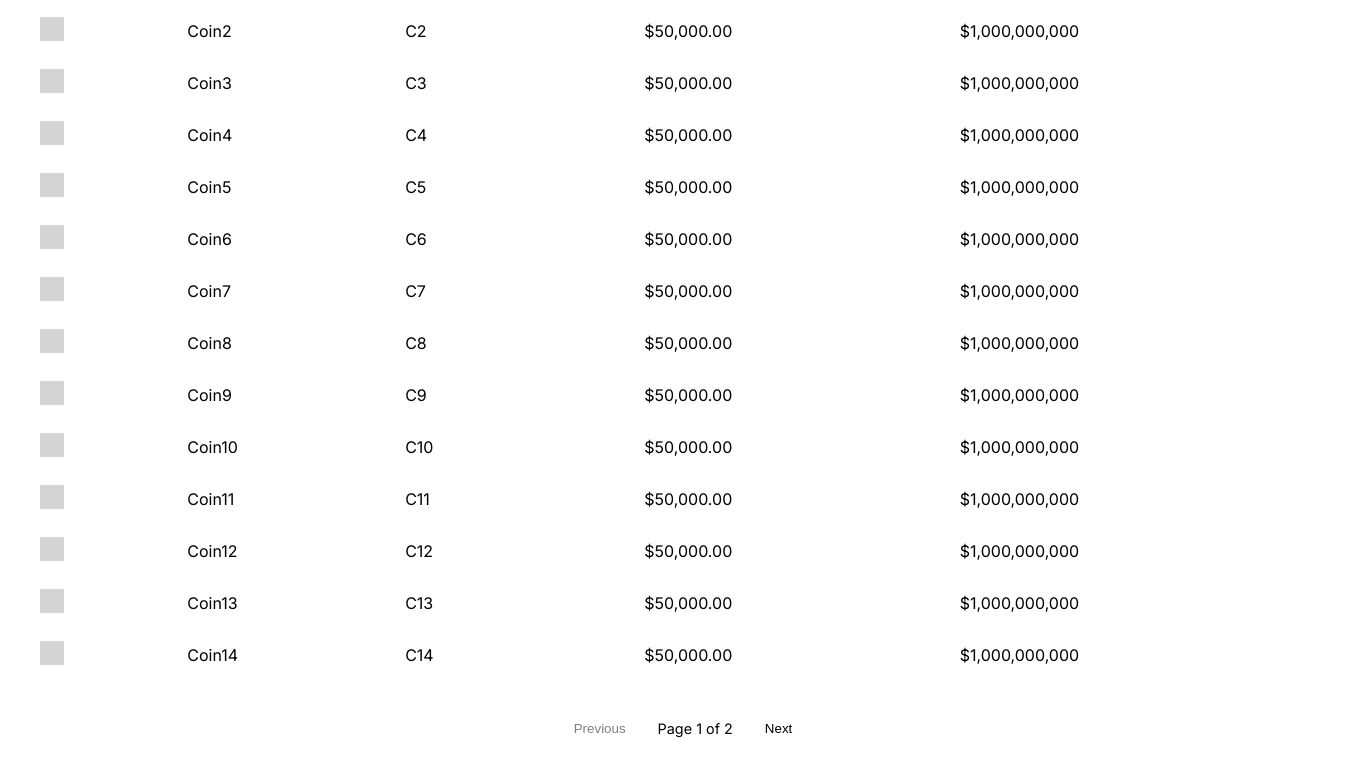
Test: CoinsTable › paginates results
(page scrolled)
Expected: the text "Page 1 of 2" is shown, x1=658 y1=720 x2=733 y2=737
// Click next page
Click the button "Next". click: (778, 728)
box: x1=749 y1=713 x2=808 y2=744
(page scrolled)
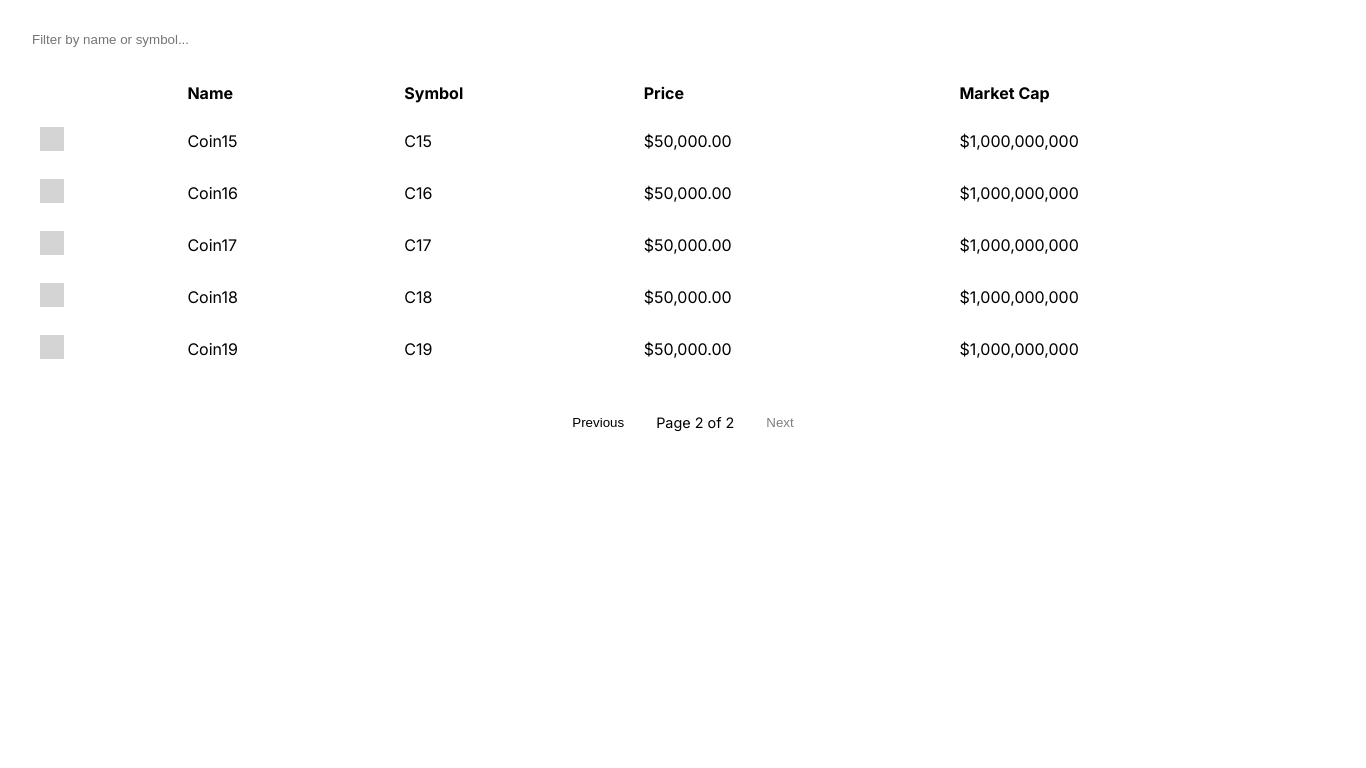
Expected: the text "Page 2 of 2" is shown, x1=656 y1=414 x2=734 y2=431
// Click previous page
Click the button "Previous". click: (598, 422)
box: x1=556 y1=407 x2=640 y2=438
(page scrolled)
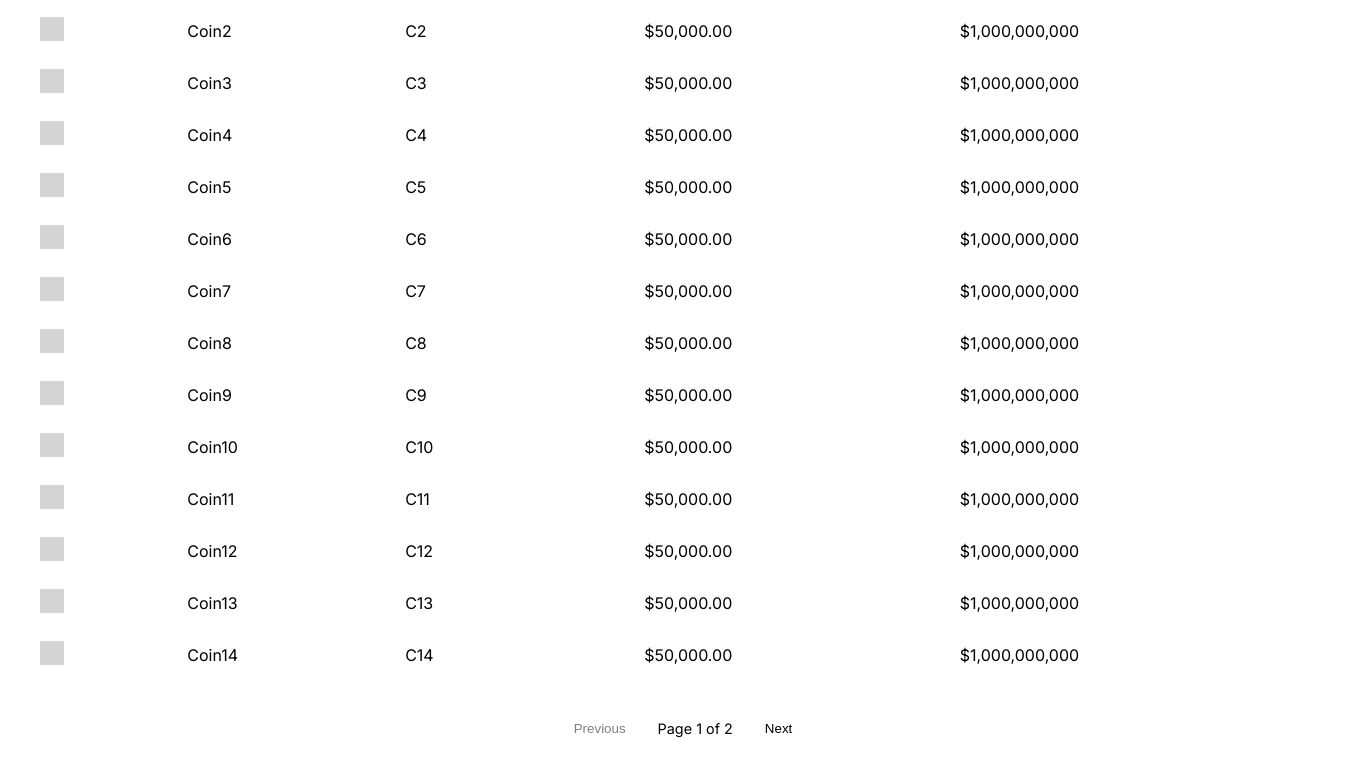
Expected: the text "Page 1 of 2" is shown, x1=658 y1=720 x2=733 y2=737
